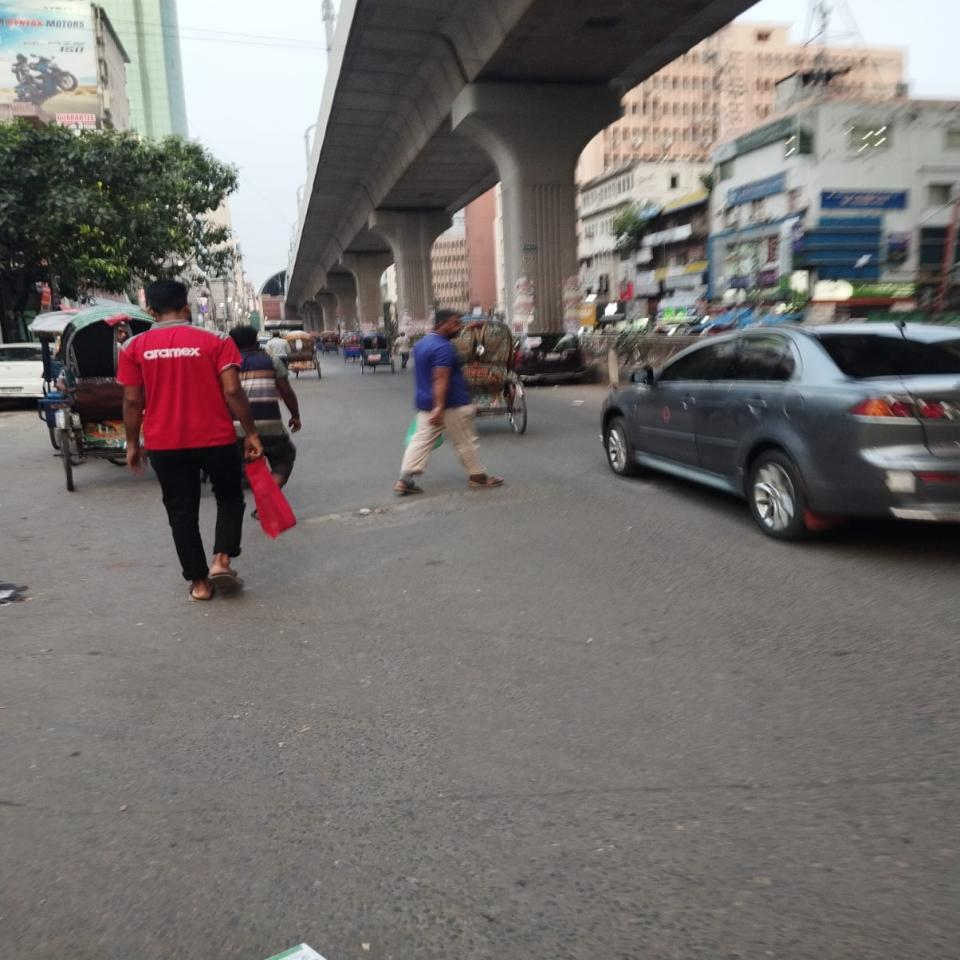person: (117, 281, 263, 602), (395, 310, 503, 496), (229, 326, 301, 516)
